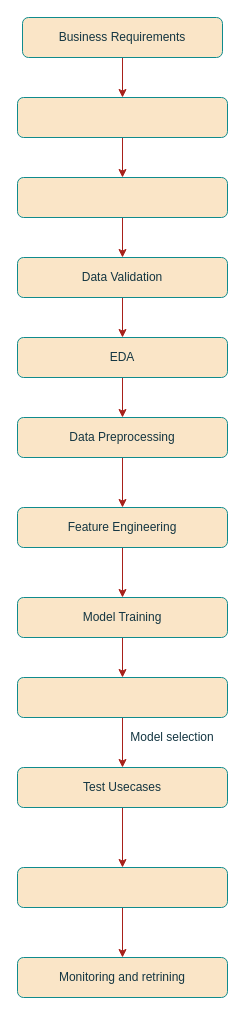
This 245x1015 diagram has some shape labels left out. The shapes that lost their labels are listed below. From the top down, each one's centre as x and y in pixels, then its label:
At point 122,117: "Project Planning".
At point 122,197: "Data Collection".
At point 122,697: "Model Evalution".
At point 122,887: "Save the model".
